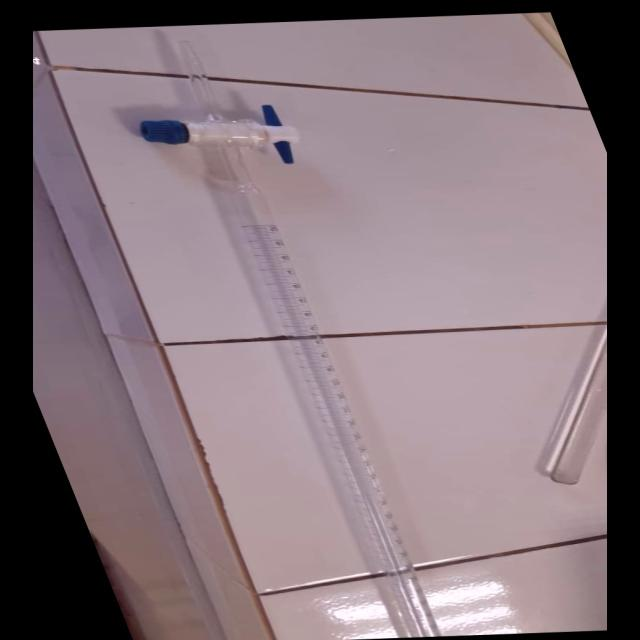Biurette: (91, 27, 512, 623)
